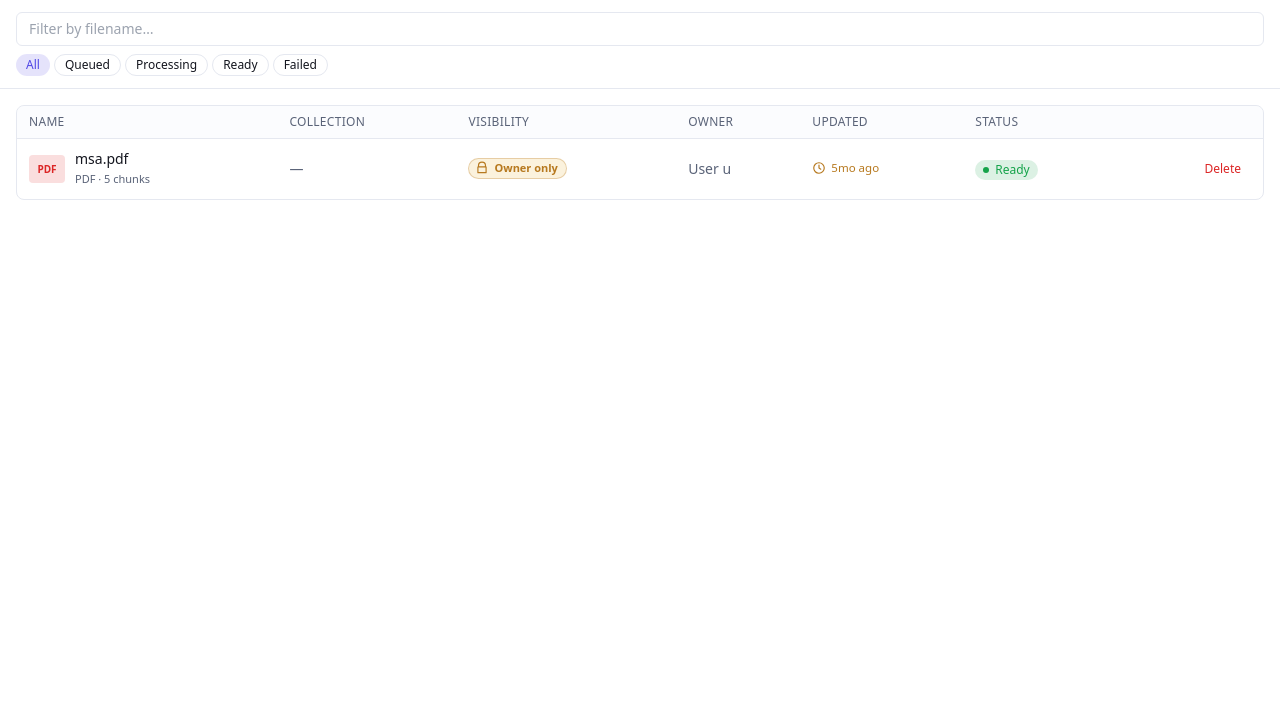
DocumentList › does not delete when the confirm dialog is cancelled
This screenshot has width=1280, height=720.
Check: the text "msa.pdf" is shown, box [75,149,128,168]
Click the button with aria-label "delete msa.pdf": (1223, 169) [1194,157,1251,181]
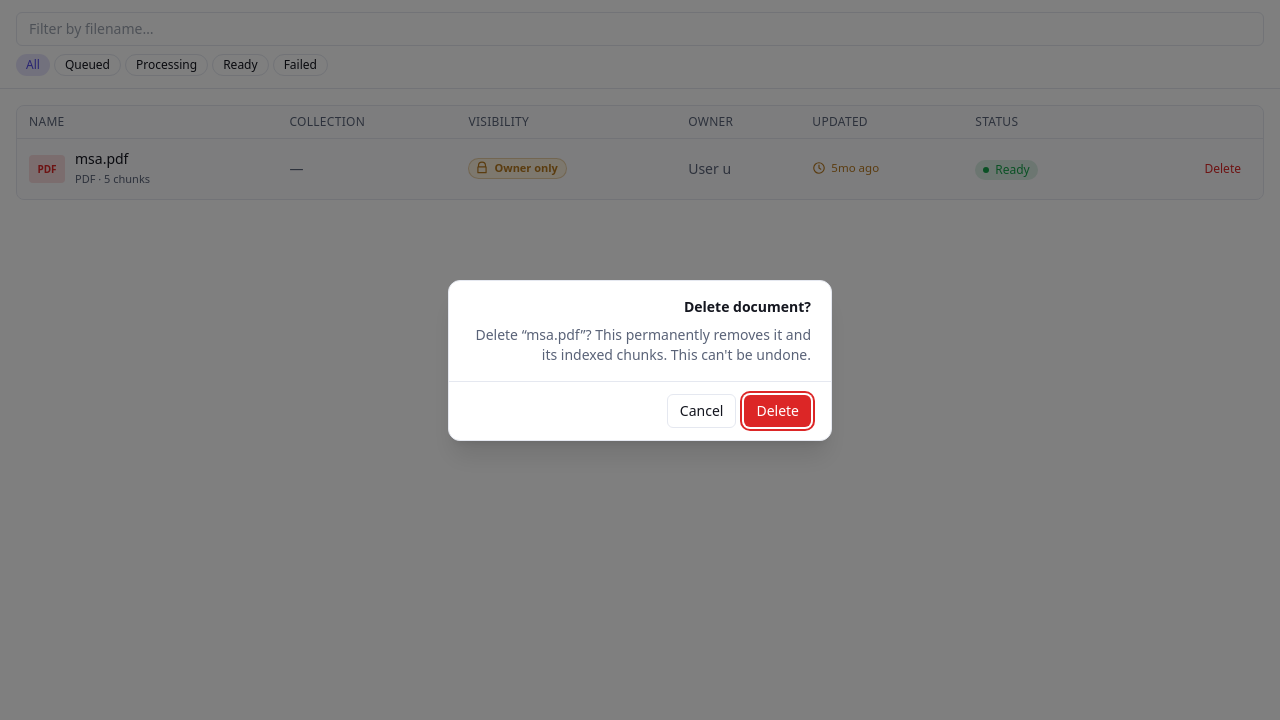
Click the button "Cancel": (702, 410) [667,394,736,428]
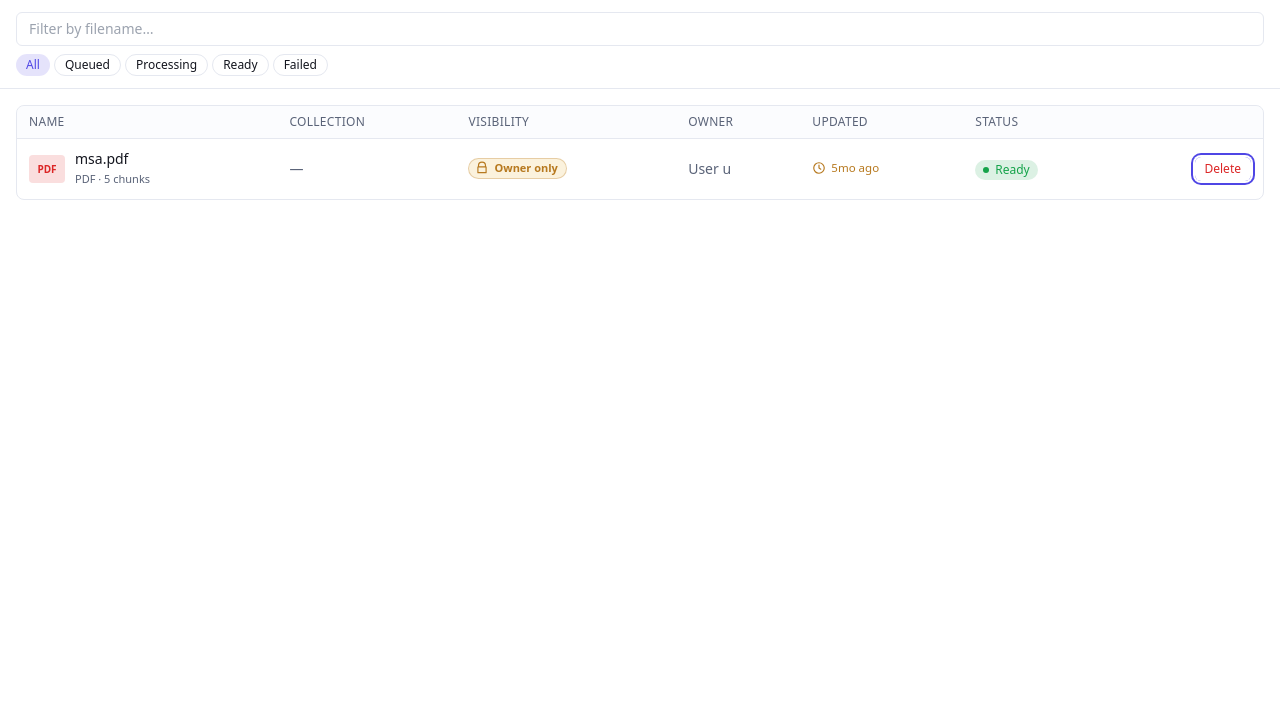
Check: the dialog is gone
